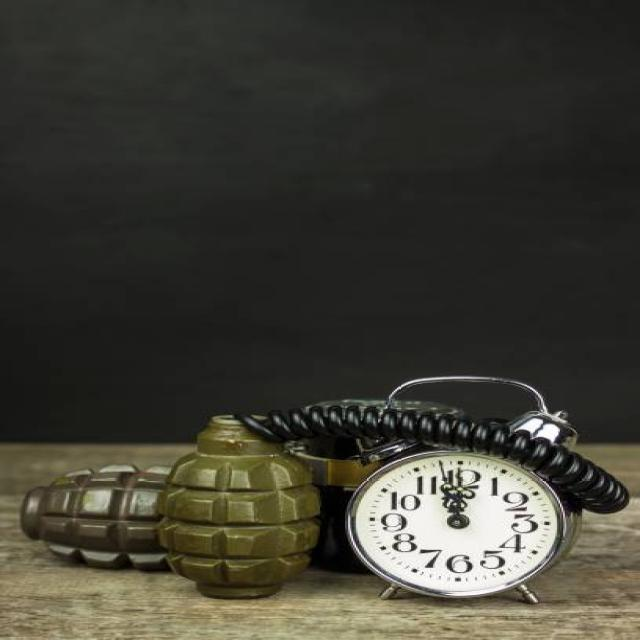grenade: (149, 416, 336, 606)
